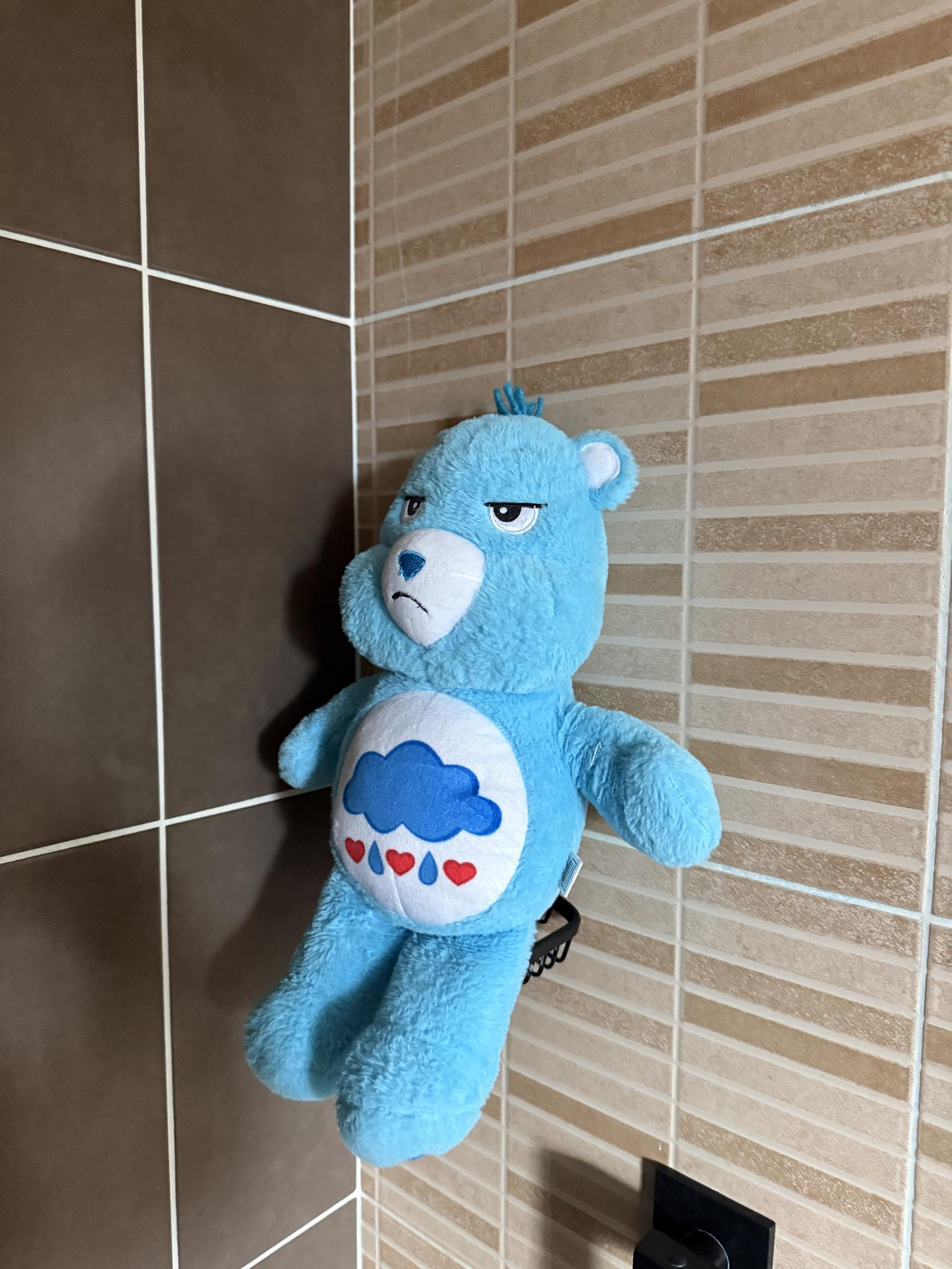peluche_Juan Jose: (235, 385, 716, 1165)
